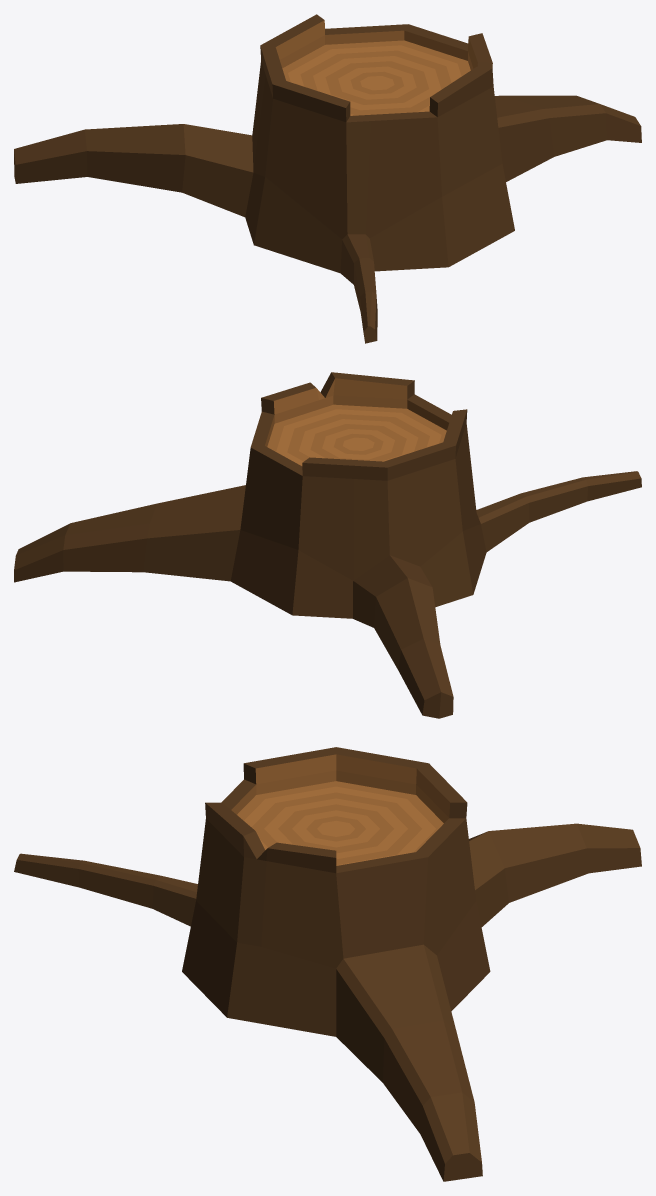
Rendered from tree_stump00.fbx.
The picture shows the model from 3 angles, top to bottom: view 1: azimuth 30°, elevation 25°; view 2: azimuth 150°, elevation 25°; view 3: azimuth 270°, elevation 25°; orthographic projection. The views are drawn at different scales.
Parts seen in each view (by area): view 1: Circle; view 2: Circle; view 3: Circle.
Boxes of the visible parts, x1=… form: Circle: x1=14, y1=14, x2=641, y2=343; Circle: x1=14, y1=372, x2=641, y2=718; Circle: x1=14, y1=747, x2=641, y2=1181.
Size of the model in its own units: 603 by 213 by 555.
